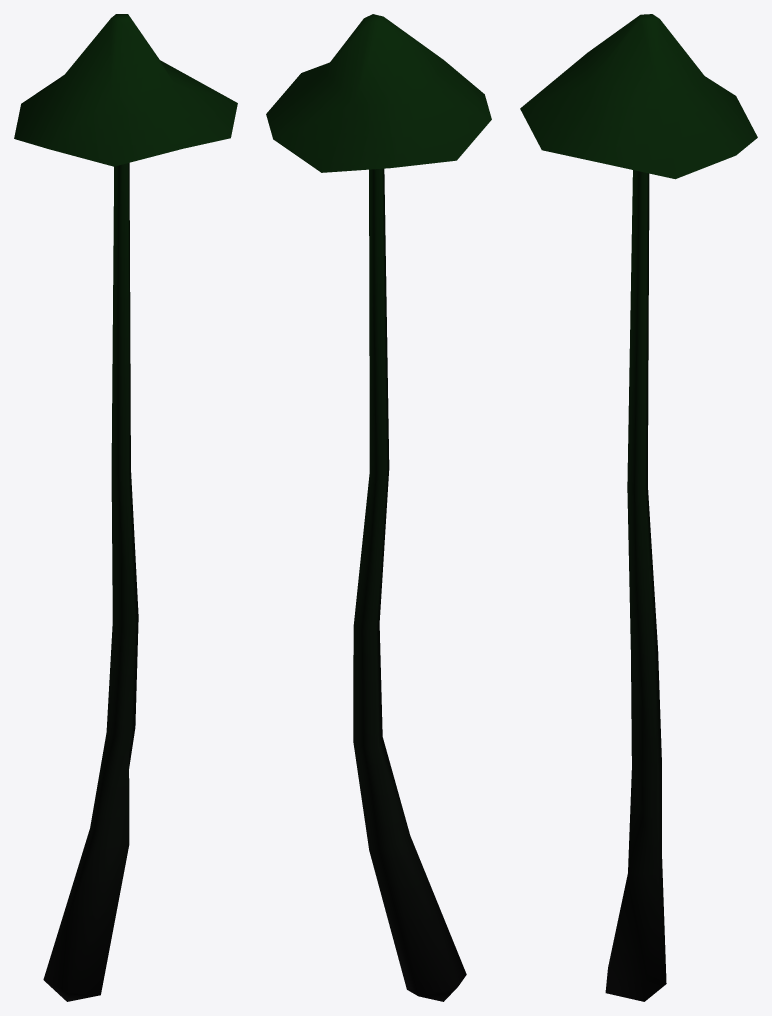
Rendered from TGV_Mushroom_02A.fbx.
The picture shows the model from 3 angles, left to right: view 1: azimuth 30°, elevation 25°; view 2: azimuth 150°, elevation 25°; view 3: azimuth 270°, elevation 25°; orthographic projection. The views are drawn at different scales.
Parts seen in each view (by area): view 1: TGV_Mushroom_02A_LOD0; view 2: TGV_Mushroom_02A_LOD0; view 3: TGV_Mushroom_02A_LOD0.
Boxes of the visible parts, x1,y1,x2,y2 form: TGV_Mushroom_02A_LOD0: [14, 14, 237, 1001]; TGV_Mushroom_02A_LOD0: [266, 14, 491, 1001]; TGV_Mushroom_02A_LOD0: [520, 14, 757, 1001].
Size of the model in its own units: 15.22 by 74.25 by 15.87.
